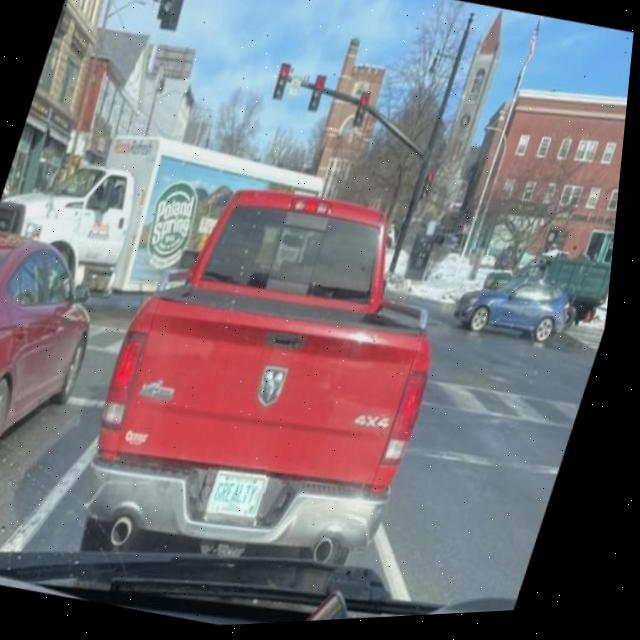LicensePlate: (214, 470, 277, 521)
